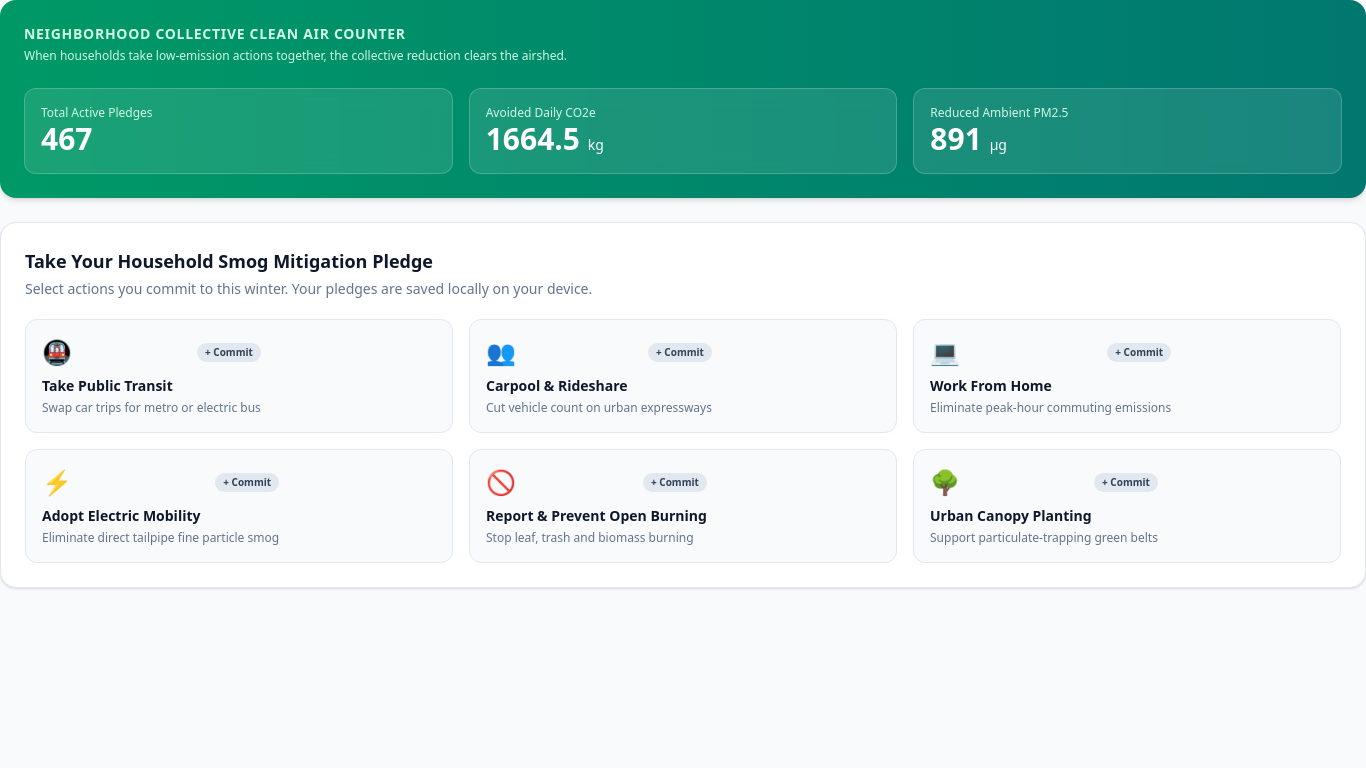
Test case: dom events suite › CommunityView pledge button commits pledge and saves to storage
Click the button "Take Public Transit". click: (229, 352)
box: [25, 319, 453, 433]
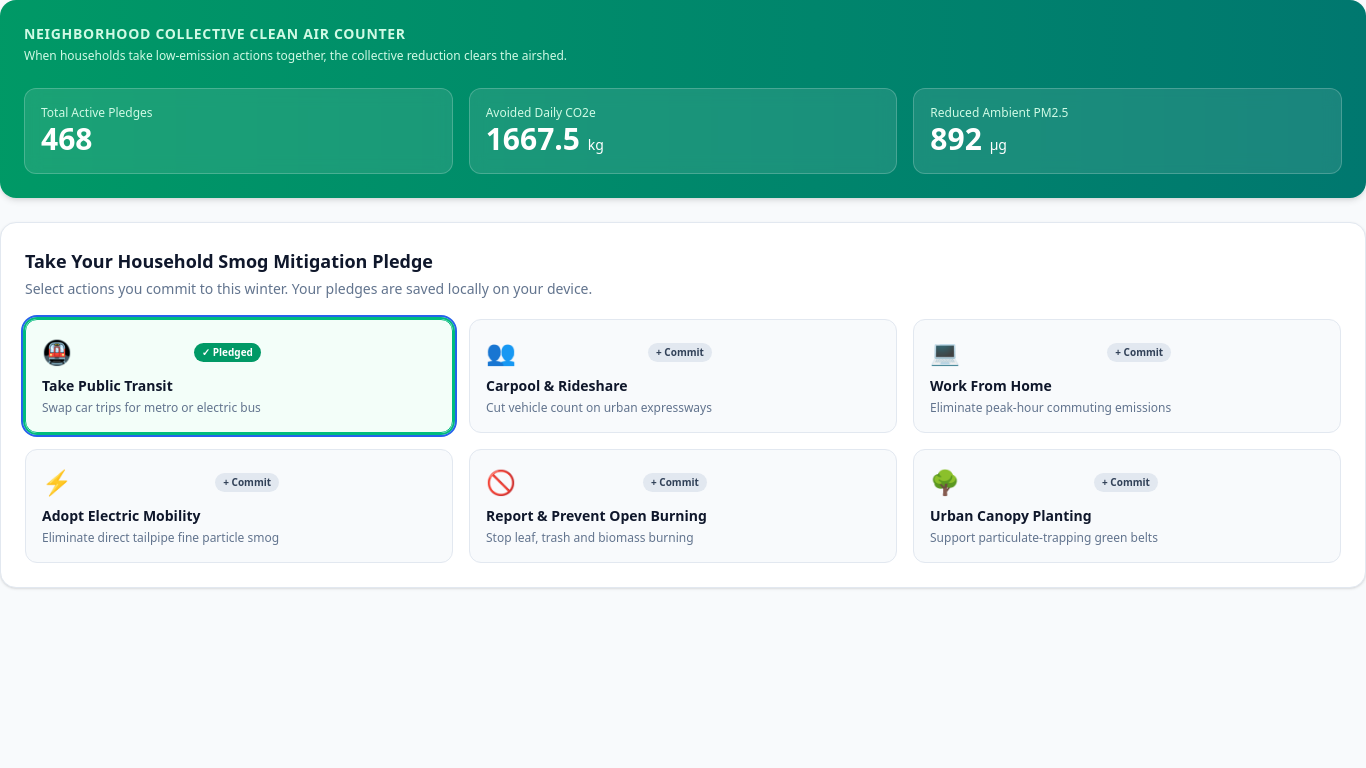
Check: the button "Take Public Transit" is pressed, box [25, 319, 453, 433]
